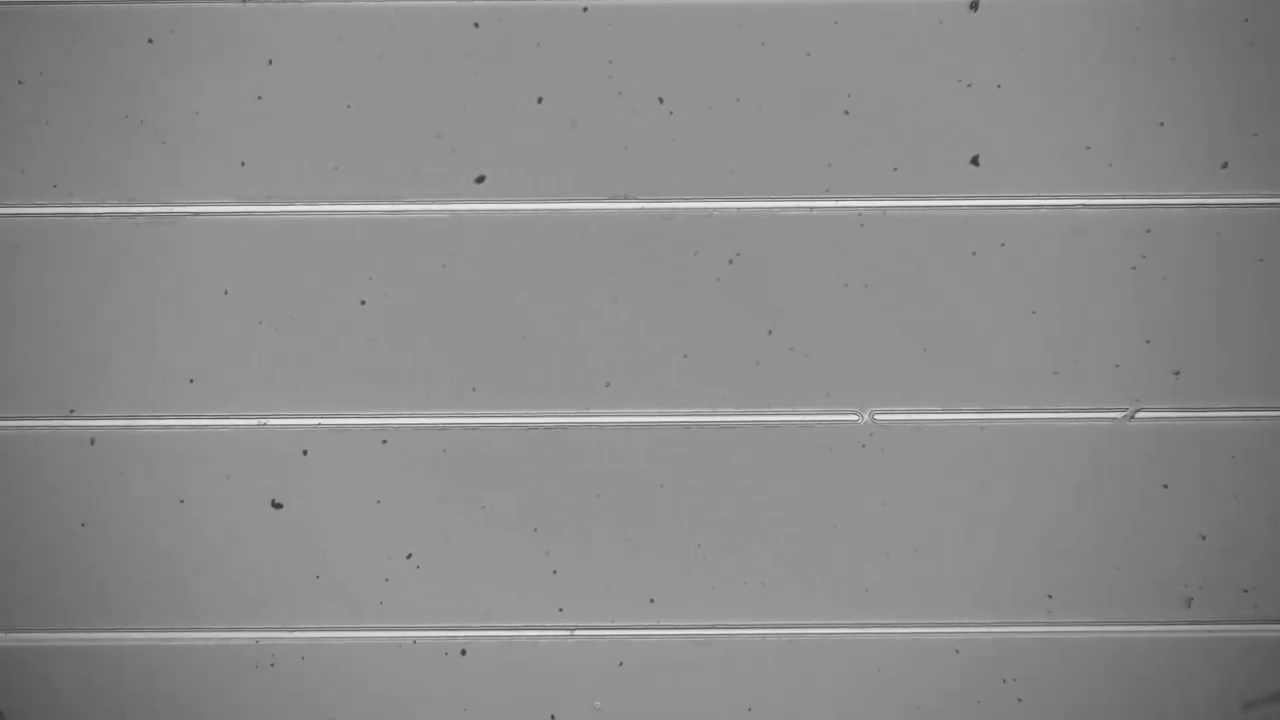open: (849, 398, 892, 436), (1106, 399, 1147, 434)
